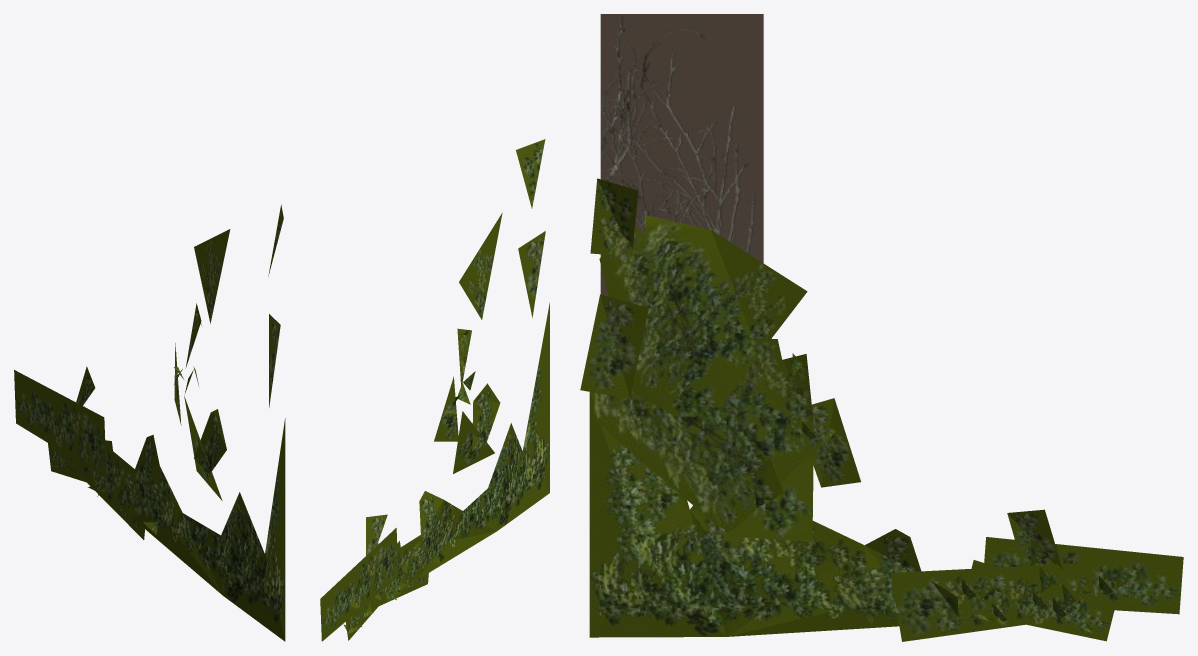
File: prop_ivy_corner_1.glb
3 renders of one model, left to right at view 1: azimuth 30°, elevation 25°; view 2: azimuth 150°, elevation 25°; view 3: azimuth 270°, elevation 25°, orthographic. The views are drawn at different scales.
Bounding box in the file's own units: 17.9 × 332 × 290.
1 material, 1 textured.
